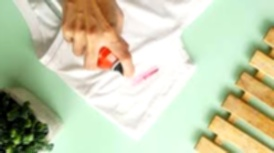lipstick: (135, 67, 165, 83)
